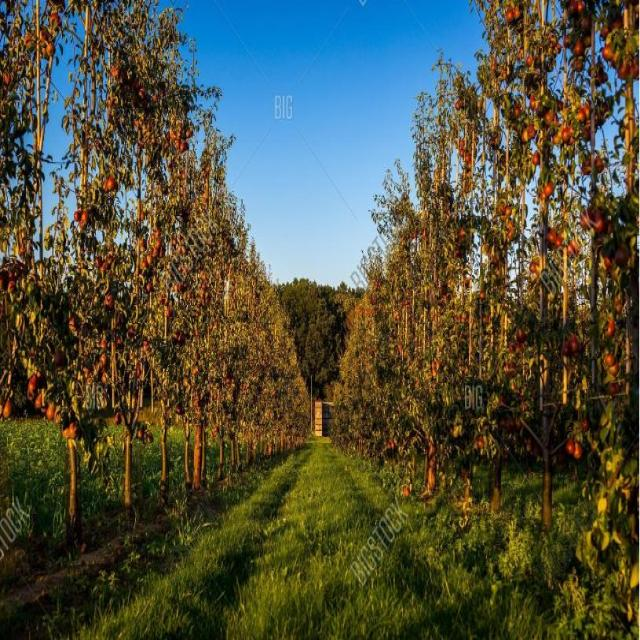row: (0, 437, 610, 640)
